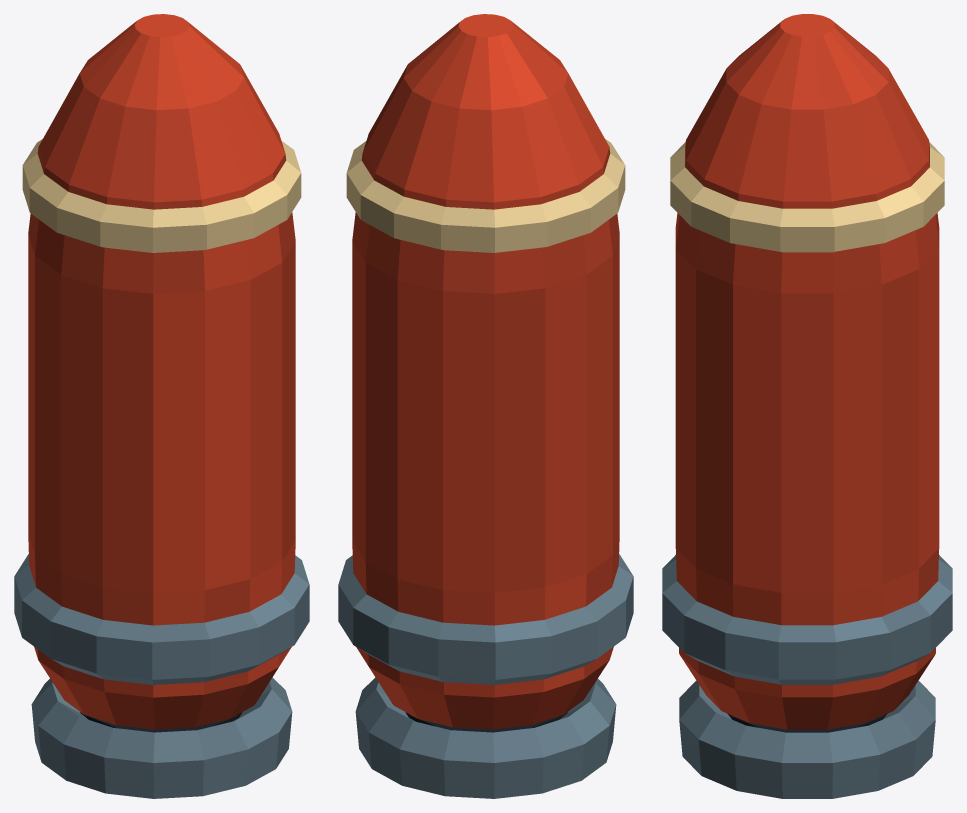
File: ER_SideBooster.fbx
The picture shows the model from 3 angles, left to right: view 1: azimuth 30°, elevation 25°; view 2: azimuth 150°, elevation 25°; view 3: azimuth 270°, elevation 25°; orthographic projection.
Parts seen in each view (by area): view 1: ER_SideBooster; view 2: ER_SideBooster; view 3: ER_SideBooster.
Boxes of the visible parts, box(x1,y1,x2,y2) form: ER_SideBooster: box(14, 14, 309, 798); ER_SideBooster: box(338, 14, 633, 798); ER_SideBooster: box(662, 14, 952, 798).
Size of the model in its own units: 0.4217 by 1.15 by 0.4217.
